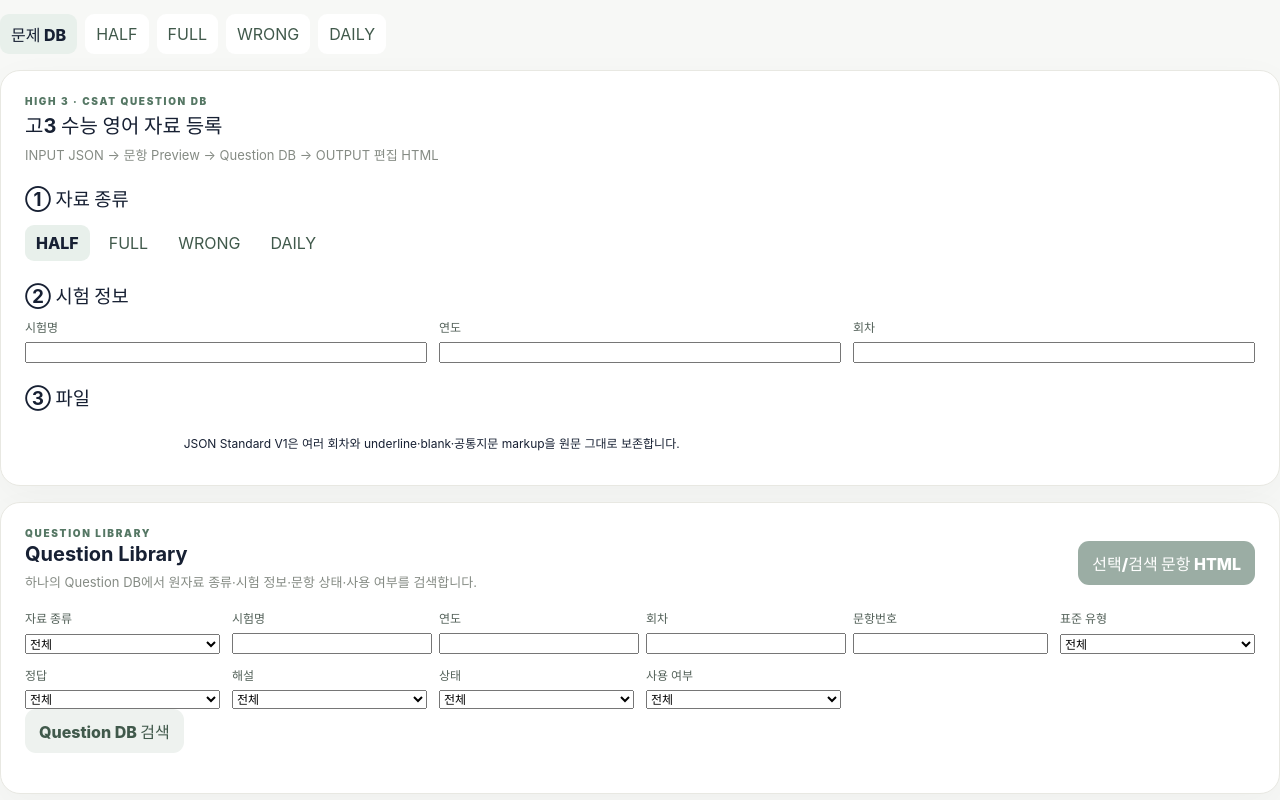
내신 Wiki V1.1 시나리오 홈 › 수능 Workspace는 문제 DB와 4개 Assessment 제작 탭을 분리한다
This screenshot has width=1280, height=800.
Expected: the button "문제 DB" is shown, top-left (0, 14), bottom-right (77, 54)
Expected: the 1st button "HALF" is shown, top-left (85, 14), bottom-right (148, 54)
Click the 1st button "DAILY".
click(352, 34)  # box top-left (318, 14), bottom-right (386, 54)
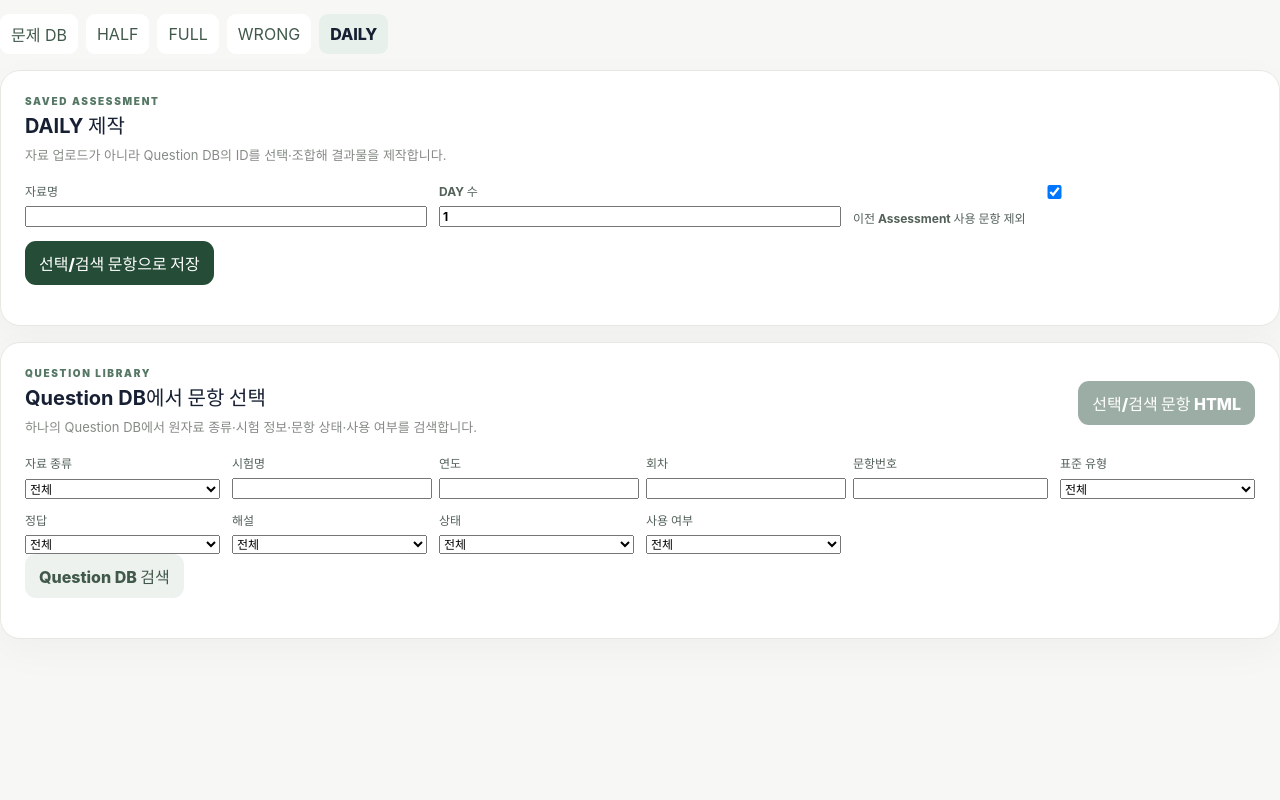
Expected: the heading "DAILY 제작" is shown, top-left (25, 114), bottom-right (125, 138)
Expected: the number field labelled "DAY 수" holds "1", top-left (439, 206), bottom-right (841, 227)
Expected: the heading "고3 수능 영어 자료 등록" is gone
